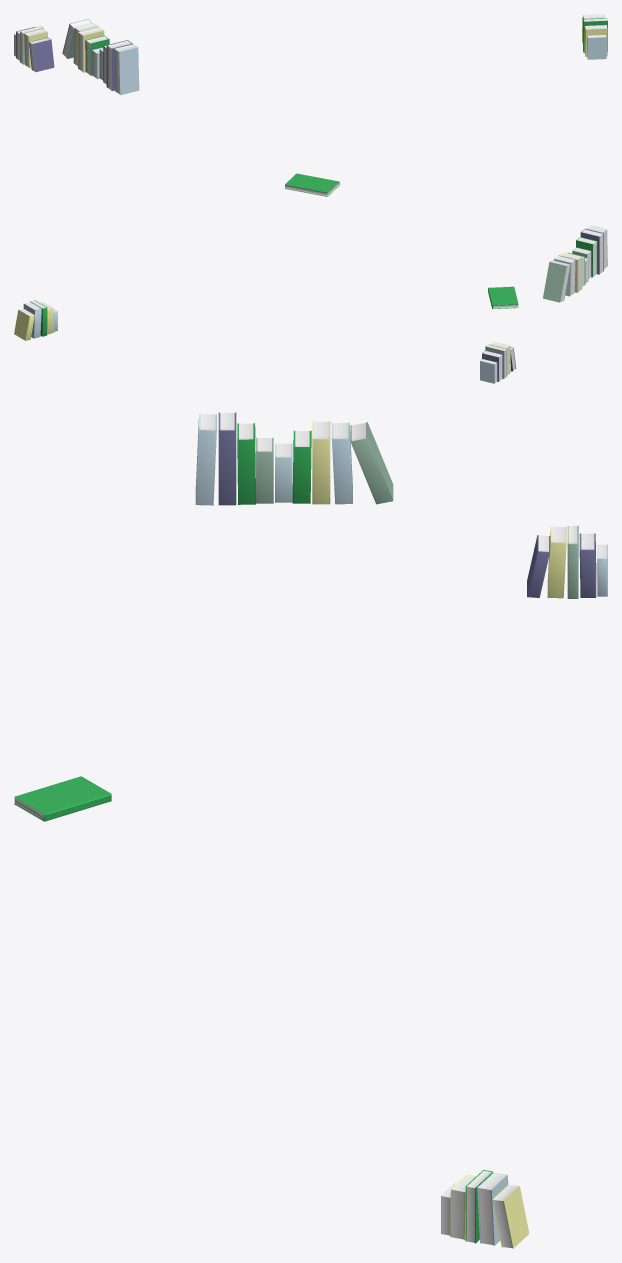
Rendered from BOOKS.glb.
3 views of the same model, one above another, from view 1: azimuth 30°, elevation 25°; view 2: azimuth 150°, elevation 25°; view 3: azimuth 270°, elevation 25° (orthographic). The views are drawn at different scales.
Visible parts, largest first — view 1: BOOKS; view 2: BOOKS; view 3: BOOKS.
Boxes of the visible parts, left/top/right/bottom form: BOOKS: left=14, top=14, right=607, bottom=196; BOOKS: left=14, top=225, right=607, bottom=383; BOOKS: left=14, top=412, right=607, bottom=1248.
Size of the model in its own units: 12.18 by 3.88 by 6.13.
